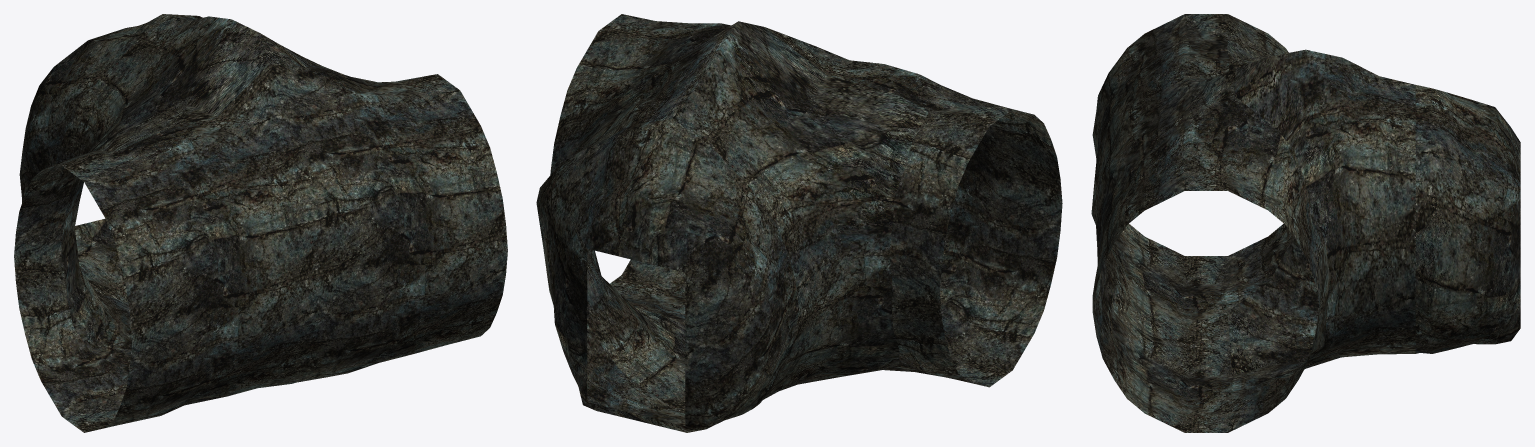
Rendered from 02_07_flushtunnel_3way_special.dae.
3 views of the same model, side by side, from view 1: azimuth 30°, elevation 25°; view 2: azimuth 150°, elevation 25°; view 3: azimuth 270°, elevation 25° (orthographic). The views are drawn at different scales.
Visible parts, largest first — view 1: polySurface1; view 2: polySurface1; view 3: polySurface1.
Boxes of the visible parts, left/top/right/bottom form: polySurface1: left=14, top=14, right=507, bottom=432; polySurface1: left=536, top=14, right=1062, bottom=432; polySurface1: left=1091, top=14, right=1520, bottom=432.
Size of the model in its own units: 8 by 6.56 by 8.2.
